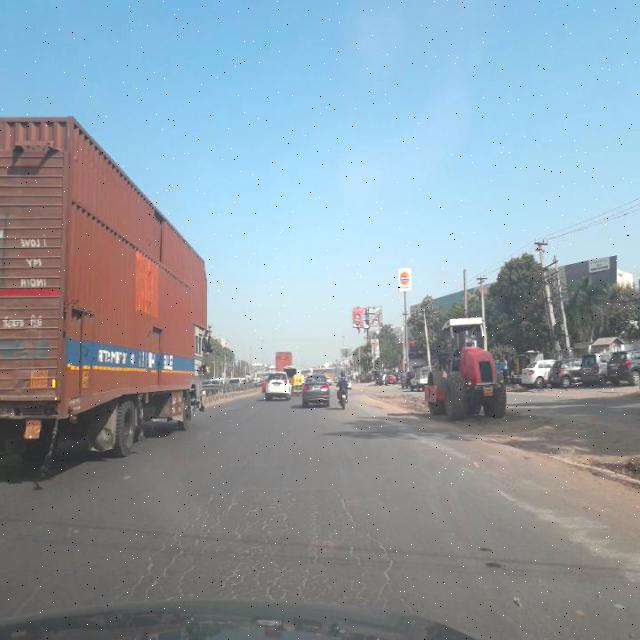D20: (123, 476, 400, 622)
